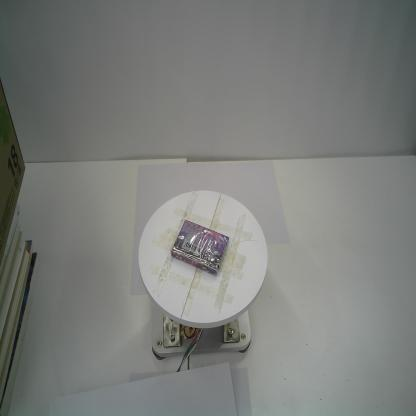Gum: (171, 218, 230, 279)
